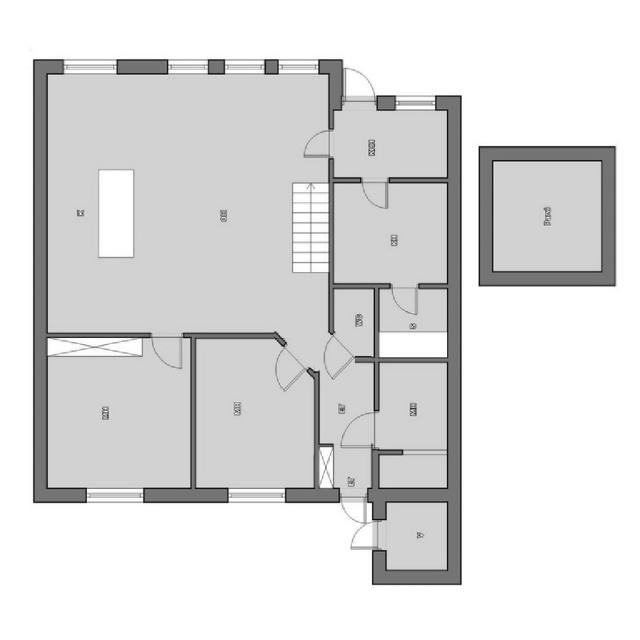door: (333, 57, 381, 110), (337, 403, 381, 458), (348, 172, 403, 214), (144, 331, 191, 378), (268, 342, 312, 390), (335, 514, 384, 556), (320, 334, 358, 386), (283, 125, 330, 166), (333, 488, 369, 524), (389, 279, 419, 321)
window: (212, 480, 290, 511), (270, 43, 326, 83), (73, 480, 146, 509), (213, 45, 274, 79), (46, 54, 125, 80), (381, 88, 442, 118), (155, 48, 215, 78)
zone: (37, 71, 329, 336), (39, 334, 190, 490), (191, 337, 314, 496), (491, 151, 609, 280), (334, 180, 457, 284), (332, 99, 447, 180), (374, 358, 454, 456), (373, 496, 457, 575), (376, 286, 454, 354)
